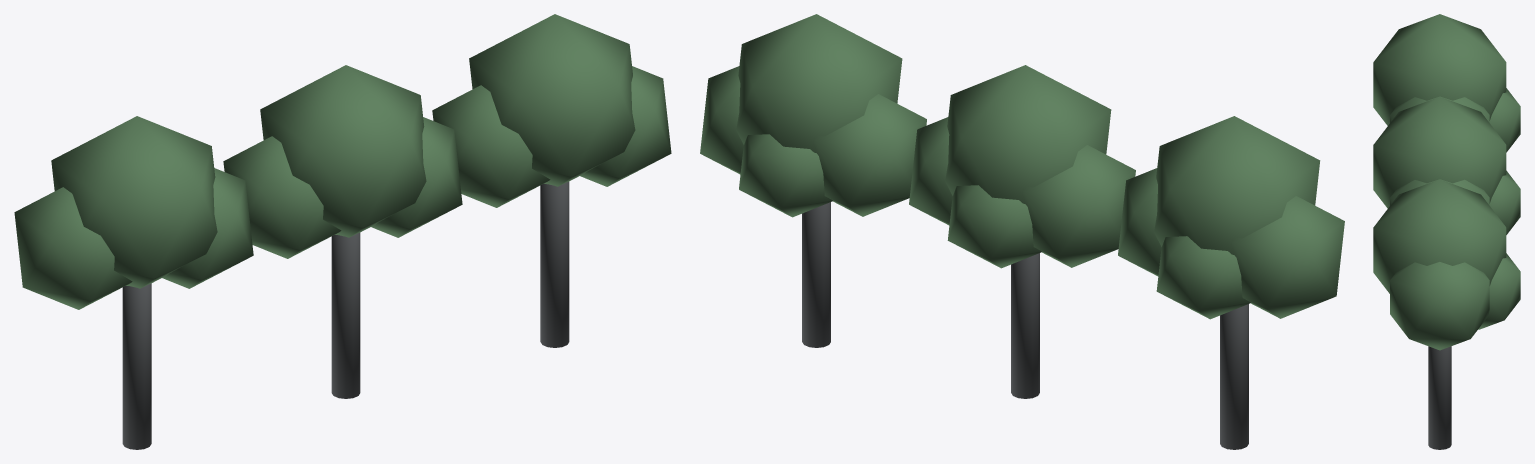
Rendered from trees_trimsheet.glb.
3 renders of one model, left to right at view 1: azimuth 30°, elevation 25°; view 2: azimuth 150°, elevation 25°; view 3: azimuth 270°, elevation 25°, orthographic. The views are drawn at different scales.
Visible parts, largest first — view 1: Tree_03, Tree_01, Tree_02; view 2: Tree_03, Tree_02, Tree_01; view 3: Tree_01, Tree_02, Tree_03.
Boxes of the visible parts, x1,y1,x2,y2 form: Tree_03: [14, 116, 253, 449]; Tree_01: [432, 14, 671, 347]; Tree_02: [223, 65, 462, 398]; Tree_03: [1118, 116, 1344, 449]; Tree_02: [909, 65, 1135, 398]; Tree_01: [700, 14, 926, 347]; Tree_01: [1373, 179, 1520, 449]; Tree_02: [1373, 96, 1520, 234]; Tree_03: [1373, 14, 1520, 152].
Bounding box in the file's own units: 6.07 × 3 × 1.51.
2 materials, 1 textured.
